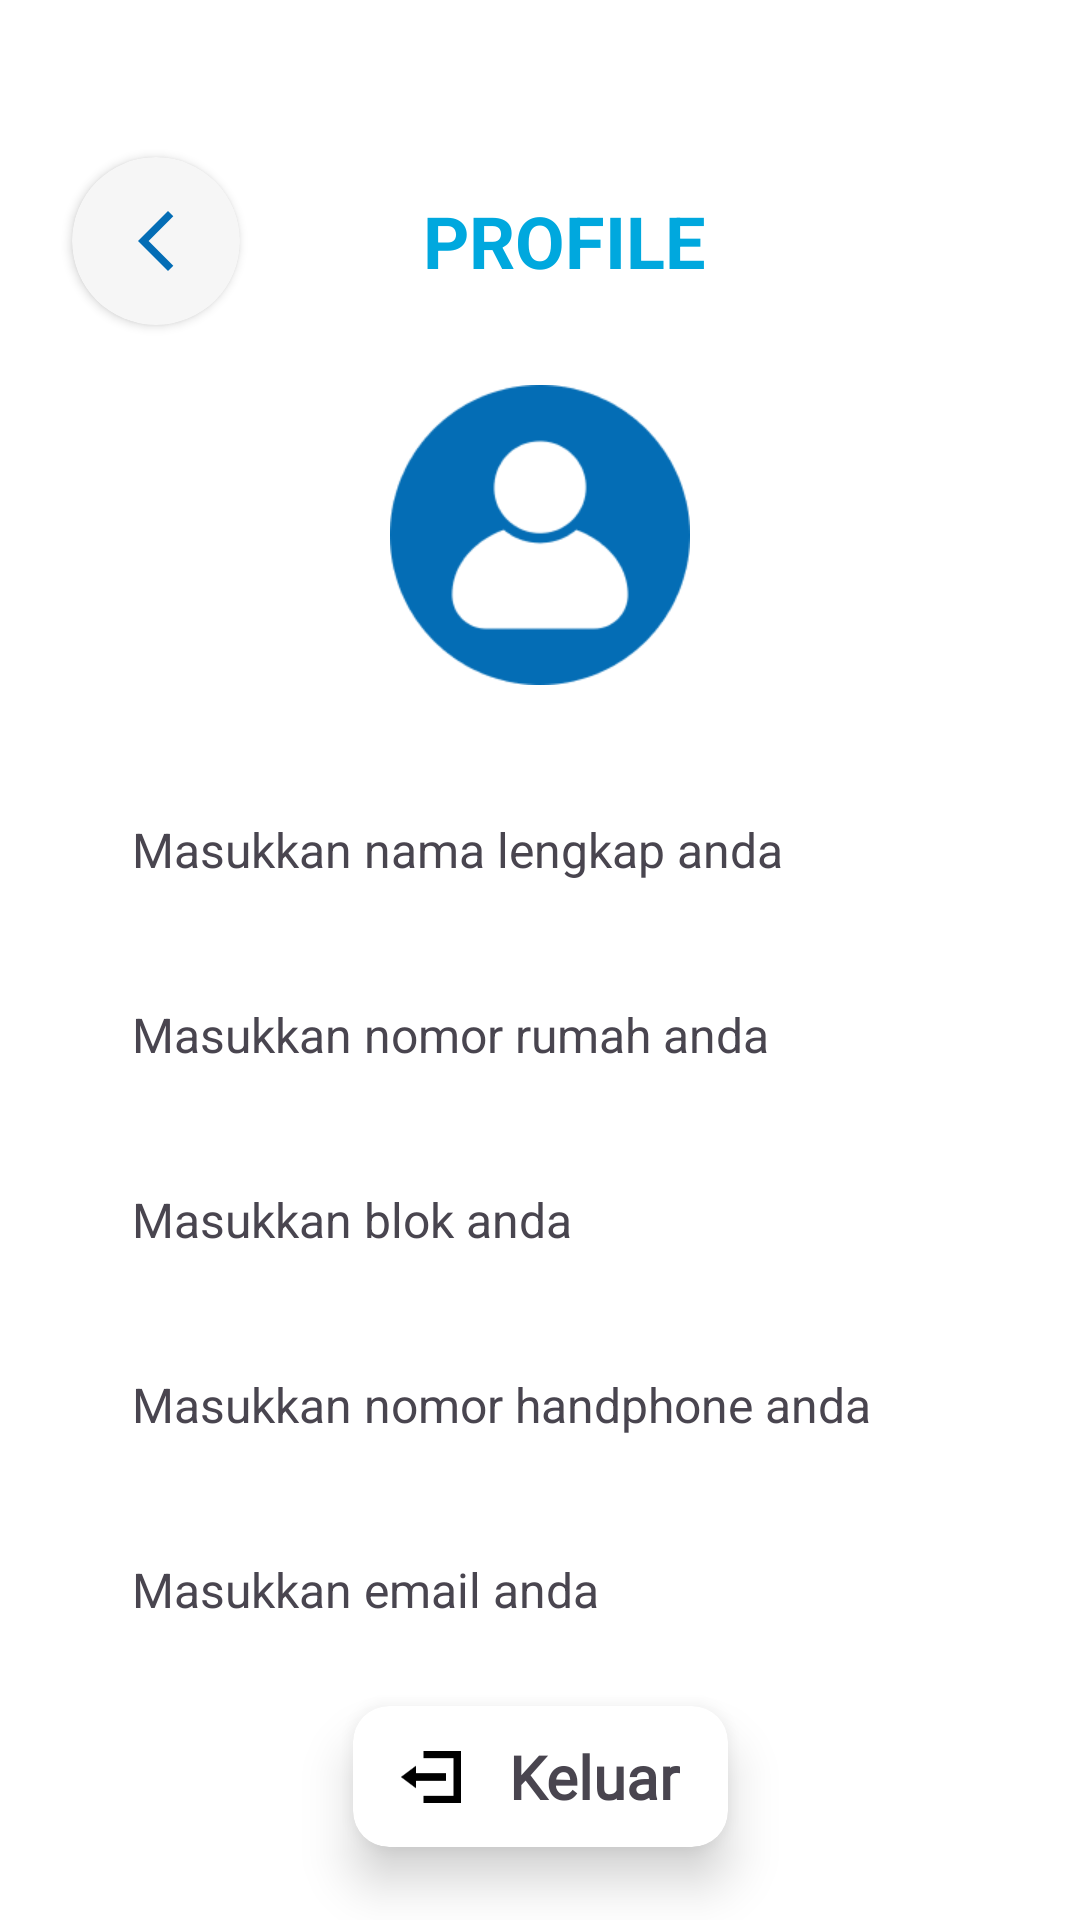

Where icons sit on this 1080×1920 app screen, as box=[x1, y1, x2, y2]:
back: box=[72, 157, 240, 325]
